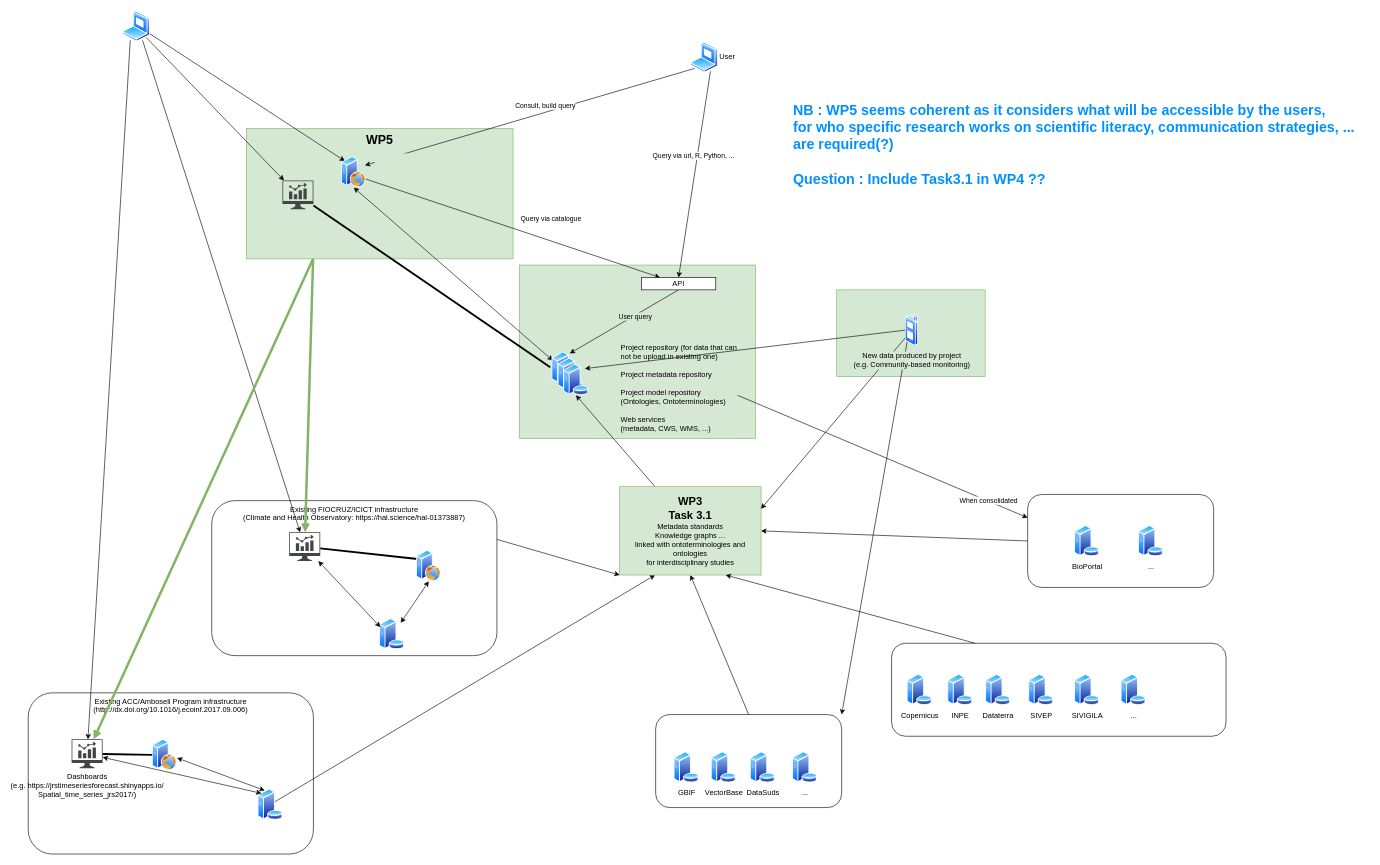
This 1380x865 diagram has some shape labels left out. Each missing label, with the box of its shape:
Dashboards (e.g. https://shiny.icict.fiocruz.br/publicirdmalaria/): (289, 532, 320, 561)
Existing data services and surveillance information systems: (891, 643, 1226, 736)
Existing Ontology repositories: (1027, 494, 1214, 587)
Existing Open data repositories: (655, 714, 842, 808)
https://climaesaude.icict.fiocruz.br/: (416, 550, 441, 581)
Task 5.2 Dashboards (not shure of the necessity): (282, 180, 313, 209)
Task 5.3 Catalogue of ressources to address Planetary Health issues: (374, 153, 512, 178)
WP2: (836, 289, 985, 377)
WP4: (519, 264, 755, 439)
